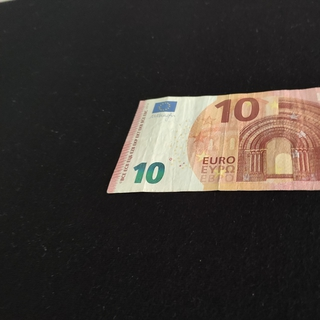10EUROFront: (106, 82, 320, 193)
